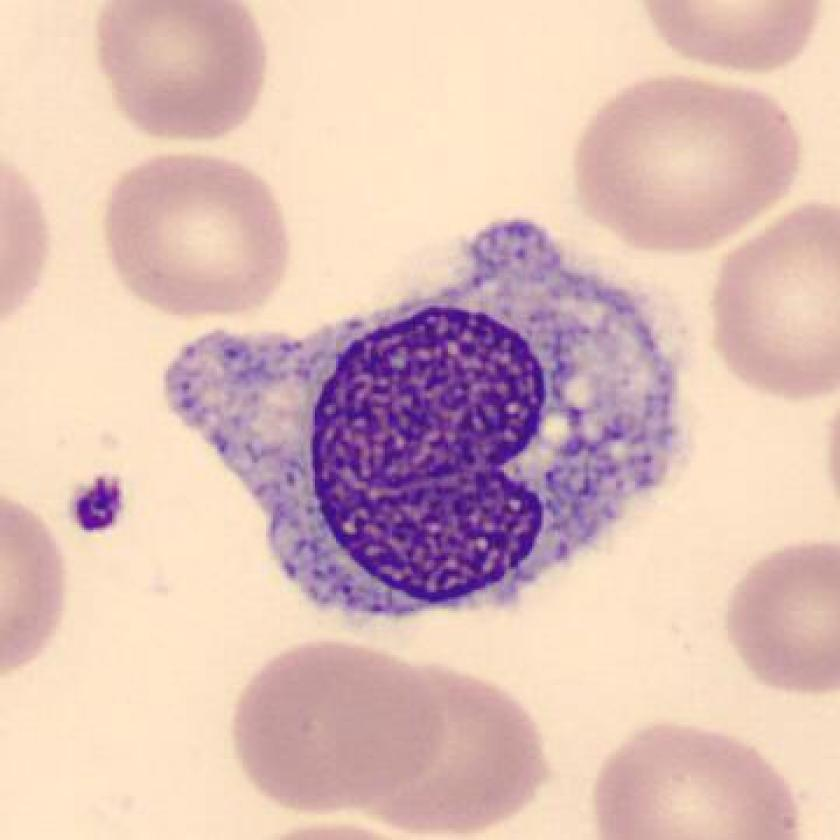monocyte: (141, 196, 715, 645)
